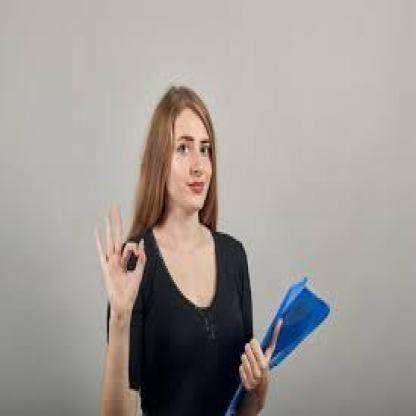ok: (93, 201, 149, 316)
